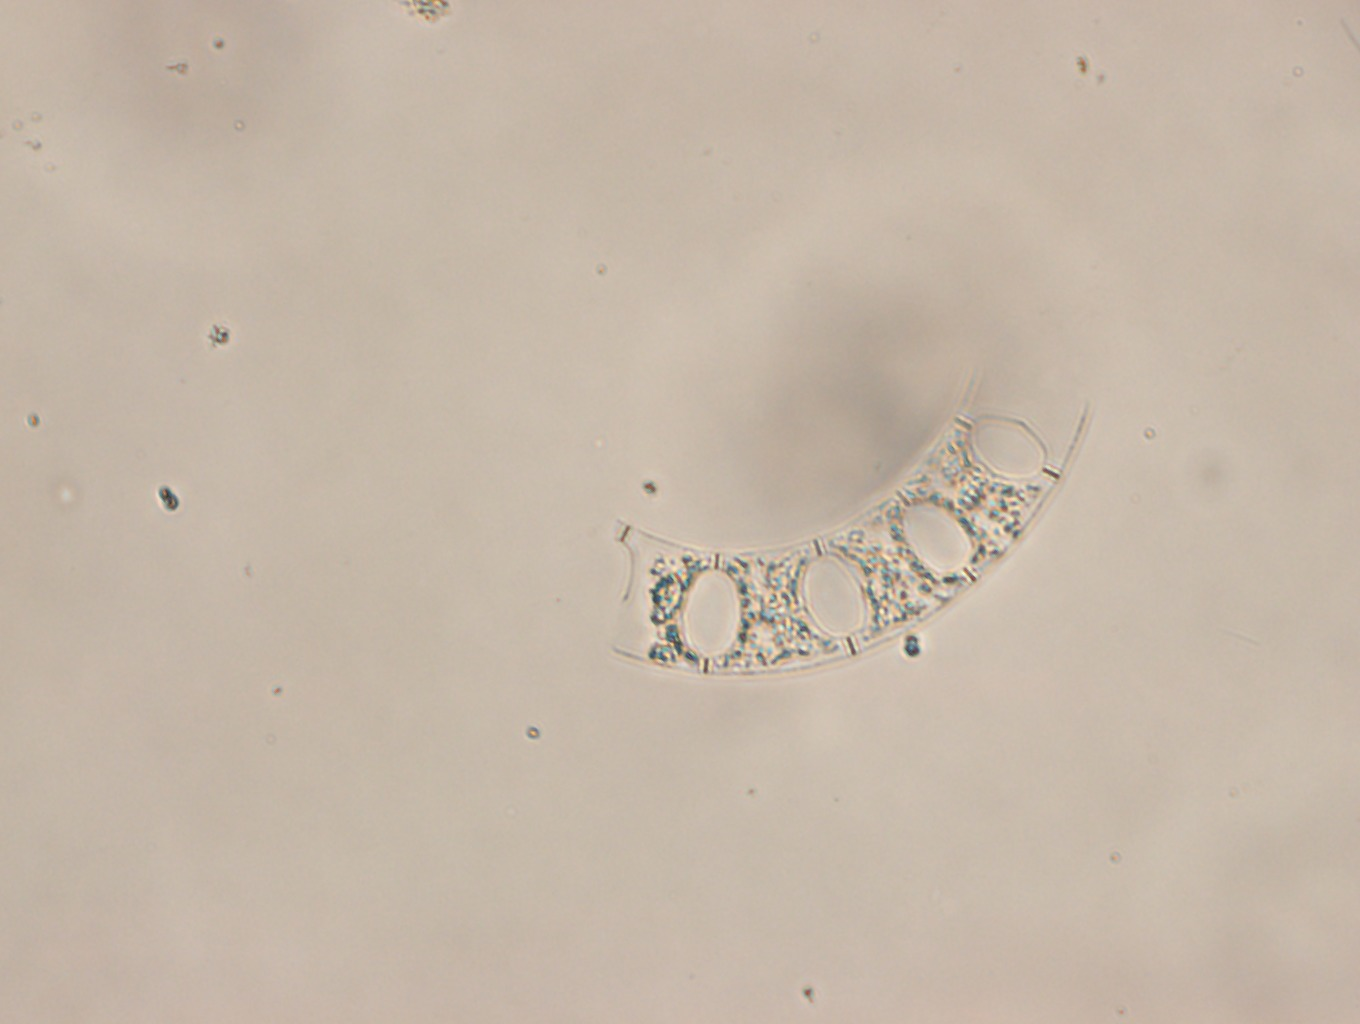eucampia: (600, 365, 1093, 675)
